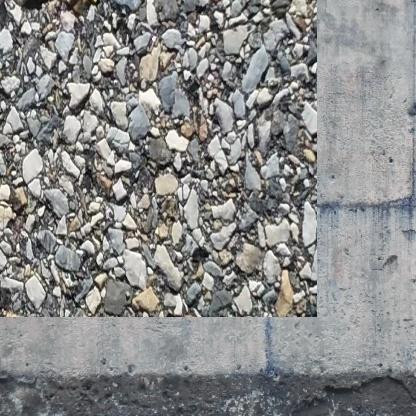Cracks: (0, 0, 64, 10), (73, 0, 101, 6)
